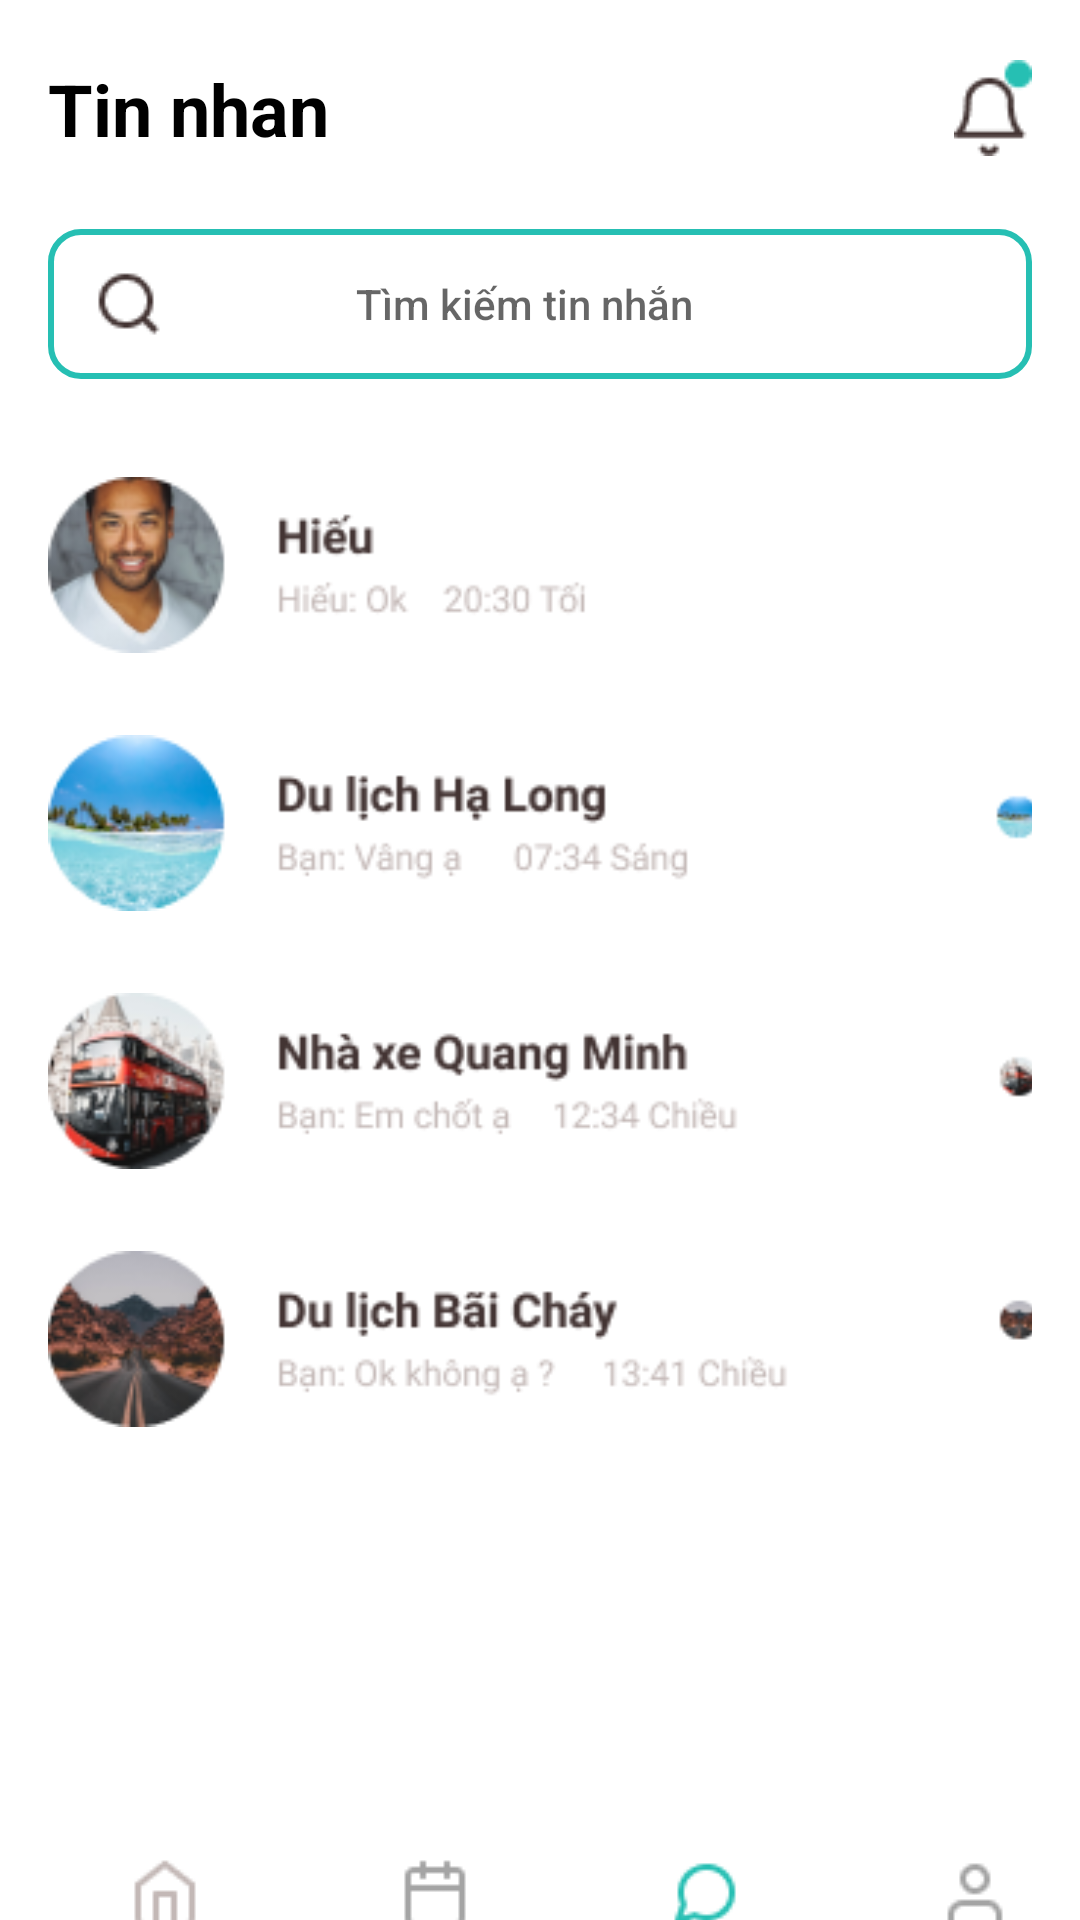

Icon bounding boxes for this 1080w x 1920h phone screenshot, format BBox(x1, y1, x2, y2):
chuong: BBox(954, 60, 1032, 156)
